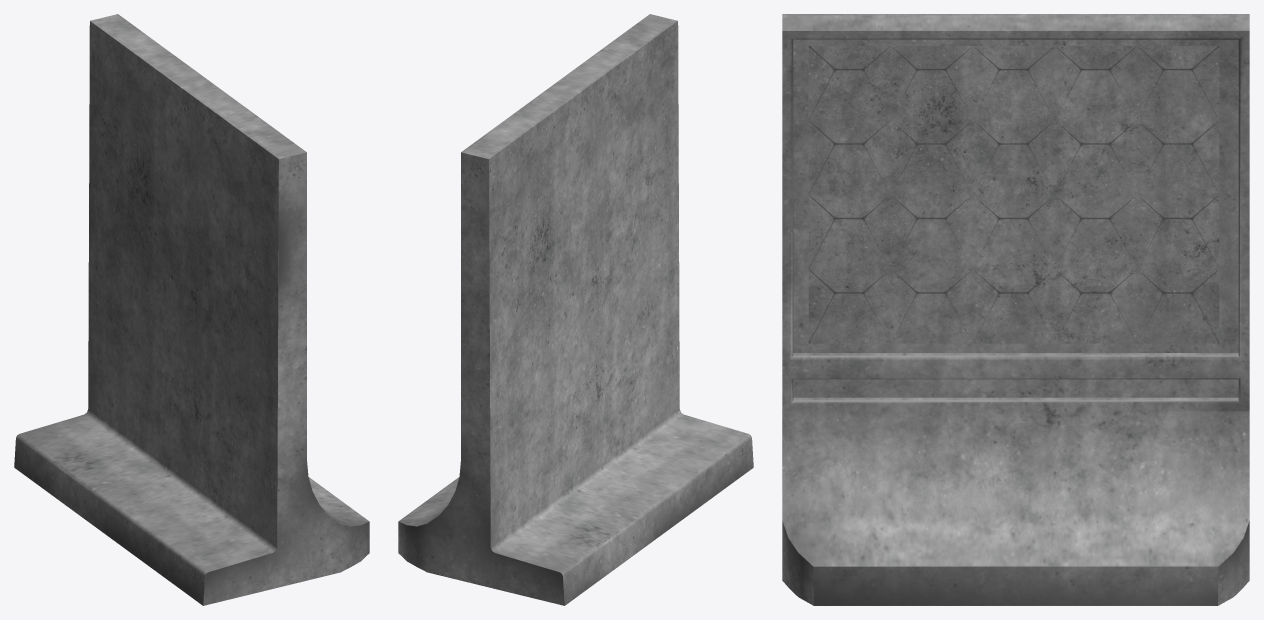
File: v2_sfab.fbx
3 views of the same model, side by side, from view 1: azimuth 30°, elevation 25°; view 2: azimuth 150°, elevation 25°; view 3: azimuth 270°, elevation 25° (orthographic). The views are drawn at different scales.
Visible parts, largest first — view 1: fence_low.002; view 2: fence_low.002; view 3: fence_low.002.
Boxes of the visible parts, <box> form: fence_low.002: <box>14,14,369,605</box>; fence_low.002: <box>398,14,753,605</box>; fence_low.002: <box>782,14,1249,605</box>.
Bounding box in the file's own units: 110 × 250 × 200.
Materials: 2 (2 with a texture image).
